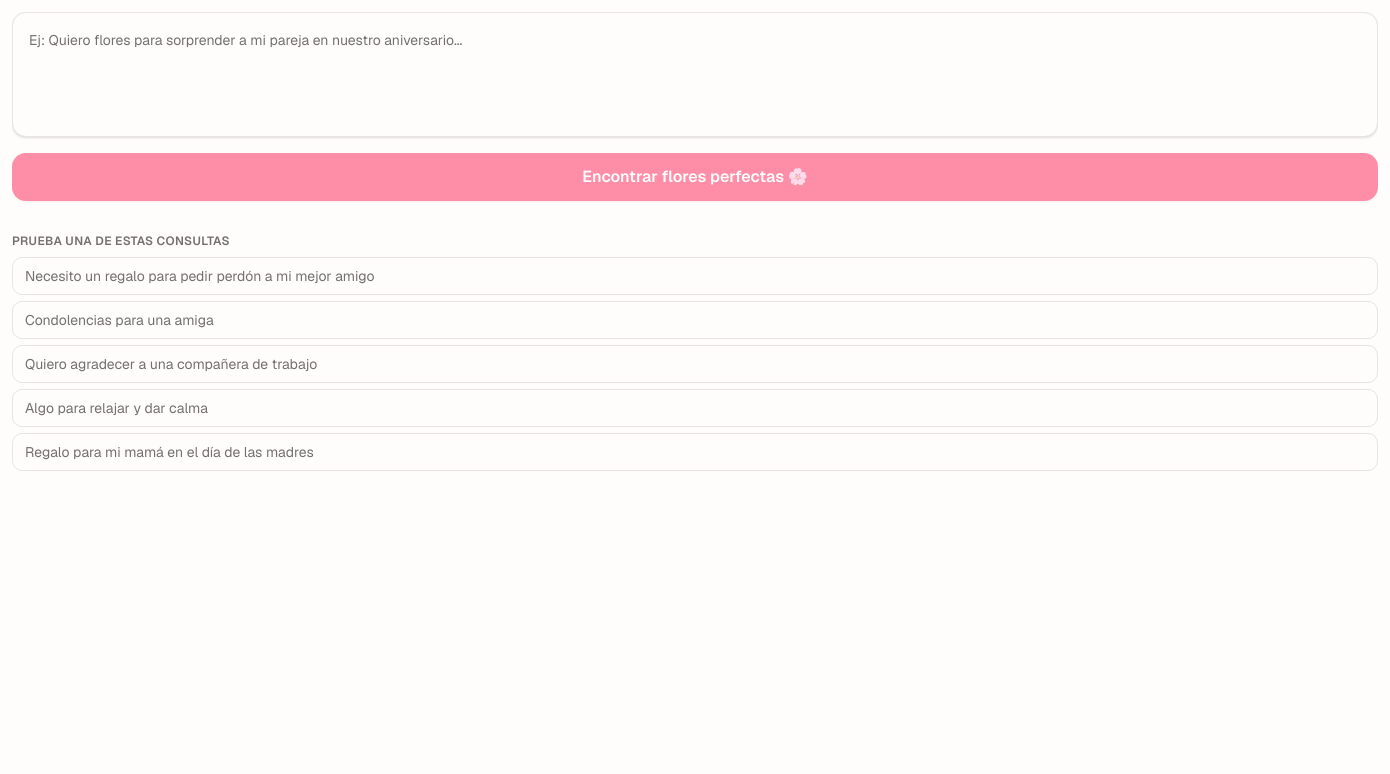
Test: RecomendadorForm › muestra intención Disculpa y contexto Amistad cuando la respuesta los contiene
Replace the text in the text box with "Necesito un regalo para pedir perdón a mi mejor amigo" at (695, 74), box [12,12,1378,137]
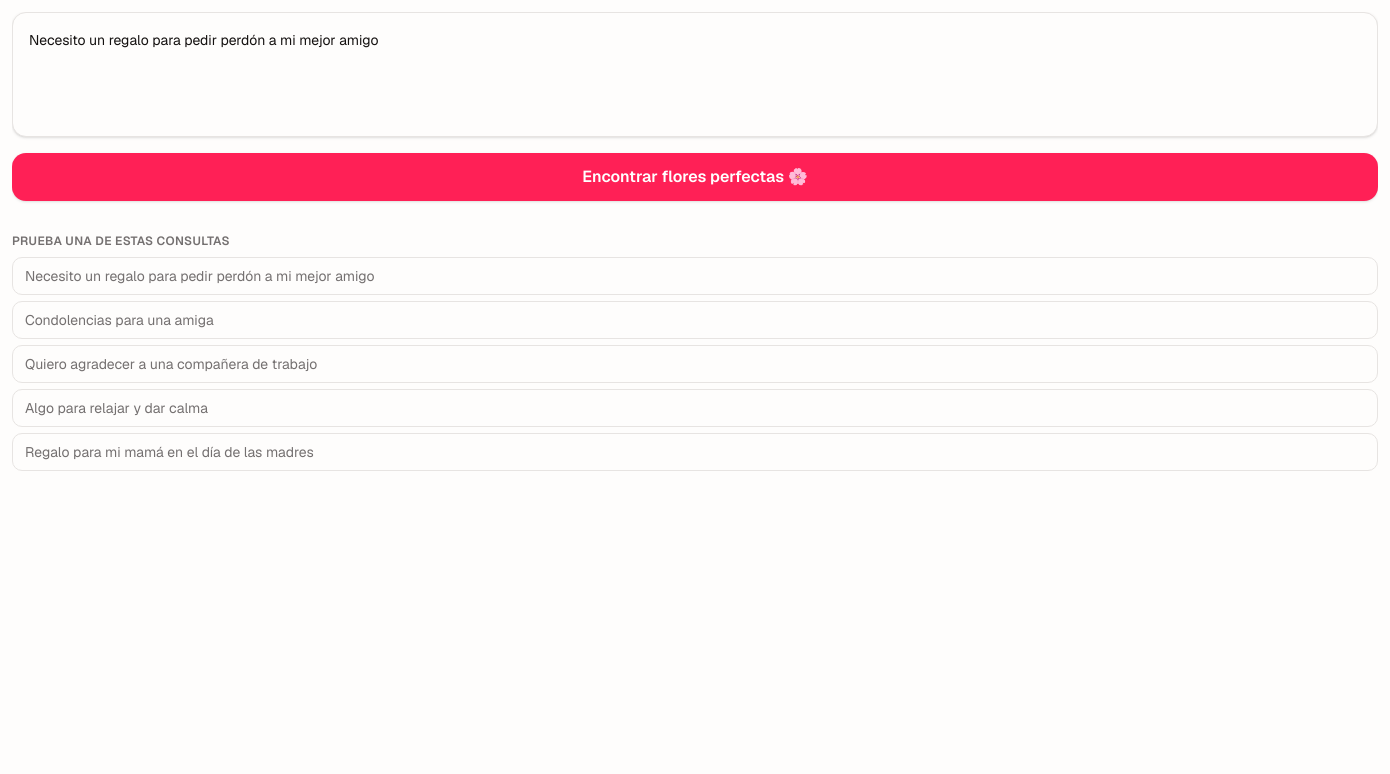
Click the button "Encontrar flores perfectas 🌸" at (695, 177), box [12,153,1378,201]
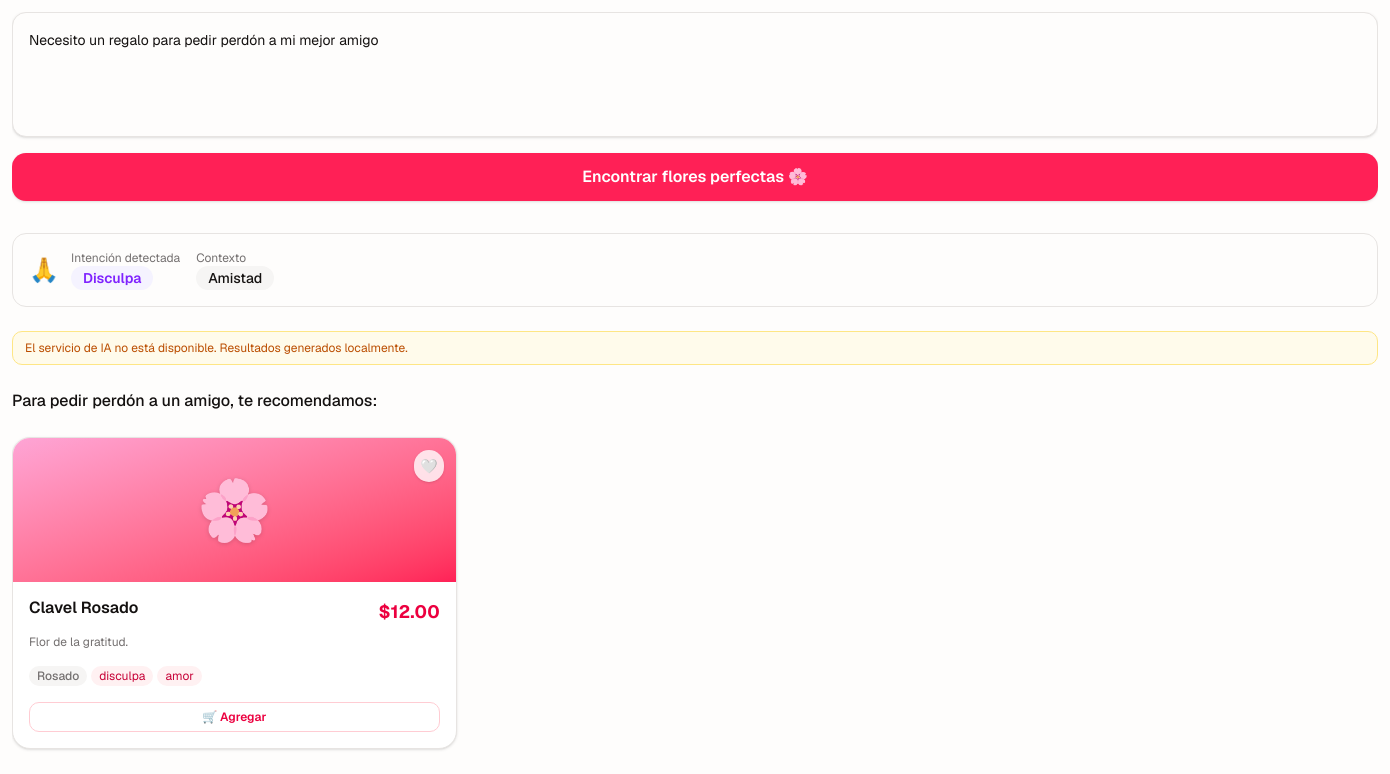
Expected: the text "Disculpa" is shown, [71,266,153,290]
Expected: the text "Amistad" is shown, [196,266,274,290]
Expected: the text "Para pedir perdón a un amigo, te recomendamos:" is shown, [12,390,377,411]
